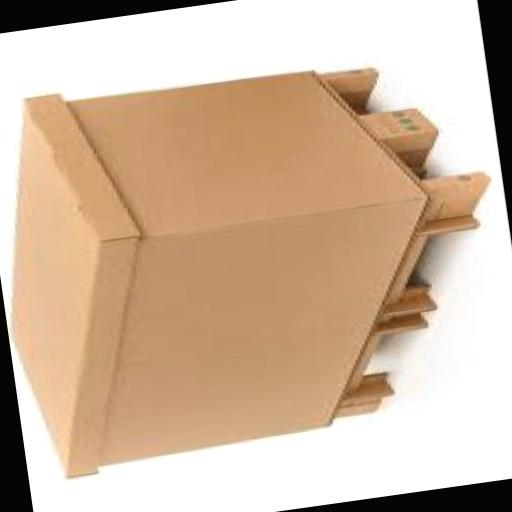cardboard: (0, 46, 458, 486)
